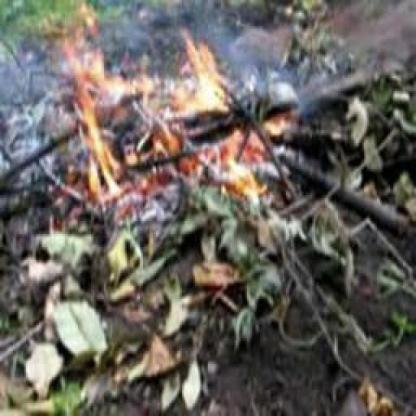fire: (64, 25, 269, 196)
